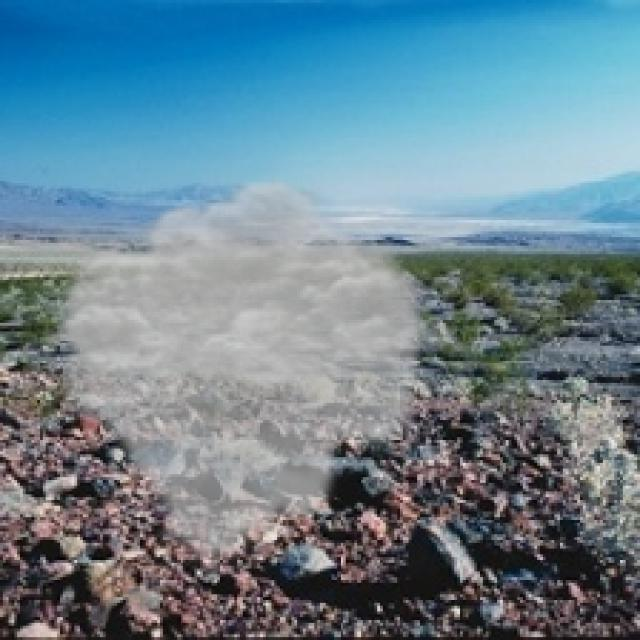Smoke: (46, 174, 437, 569)
